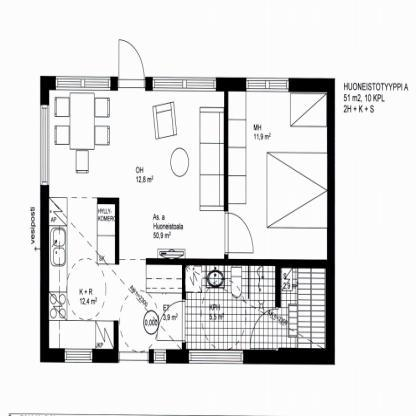door: (117, 38, 147, 94), (249, 308, 285, 350), (223, 209, 254, 257), (155, 297, 187, 342)
window: (148, 73, 218, 94), (37, 101, 52, 190), (52, 72, 115, 92), (187, 346, 244, 368), (244, 73, 292, 98), (61, 346, 96, 366), (150, 346, 169, 368)
